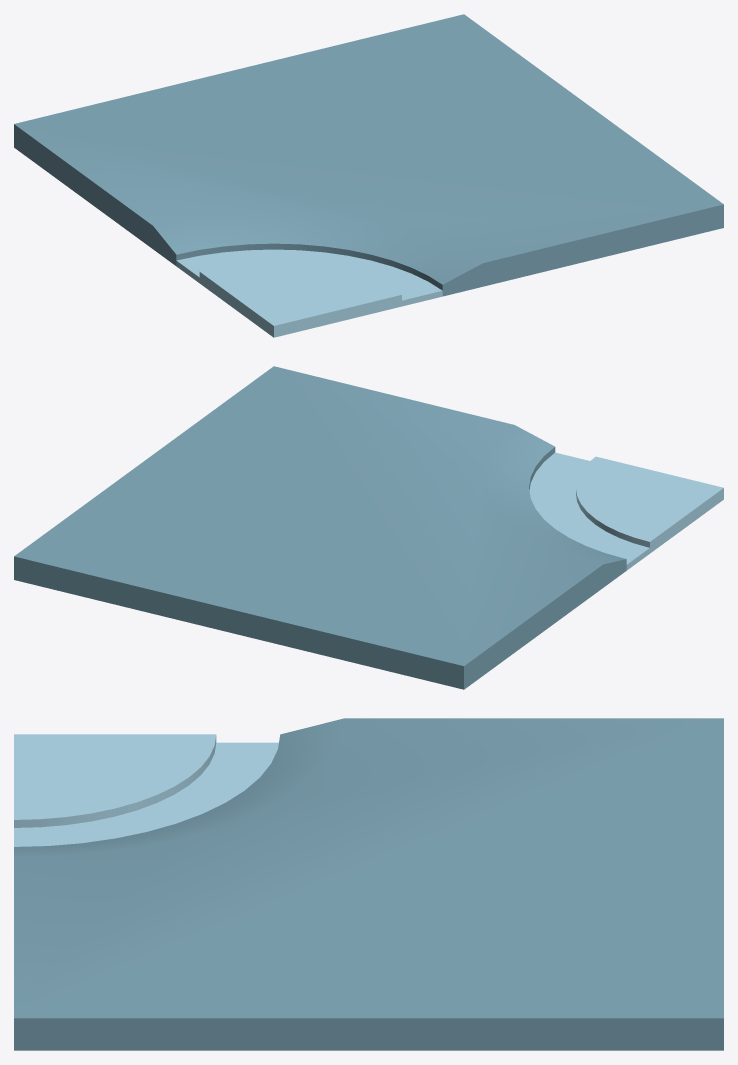
The model's file is roadCornerInner.fbx.
The picture shows the model from 3 angles, top to bottom: view 1: azimuth 30°, elevation 25°; view 2: azimuth 150°, elevation 25°; view 3: azimuth 270°, elevation 25°; orthographic projection. The views are drawn at different scales.
Parts seen in each view (by area): view 1: roadCornerInner; view 2: roadCornerInner; view 3: roadCornerInner.
Boxes of the visible parts, left/top/right/bottom form: roadCornerInner: left=14, top=14, right=723, bottom=337; roadCornerInner: left=14, top=366, right=723, bottom=689; roadCornerInner: left=14, top=718, right=723, bottom=1050.
Size of the model in its own units: 10 by 0.5 by 10.
